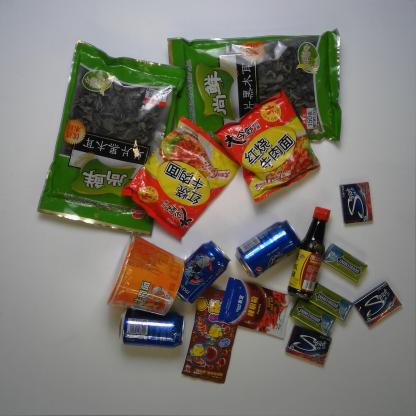Candy: (180, 287, 240, 384)
Dried Food: (35, 39, 187, 240), (160, 27, 344, 143)
Drink: (235, 219, 303, 279), (176, 240, 232, 304), (117, 306, 186, 349)
Gum: (352, 280, 403, 328), (284, 324, 332, 366), (289, 298, 338, 338), (322, 242, 368, 283), (309, 281, 354, 322), (338, 181, 374, 225)
Instant Noodles: (120, 114, 244, 242), (213, 89, 323, 203), (104, 231, 187, 316)
Seasoner: (218, 276, 296, 339), (286, 205, 332, 301)
